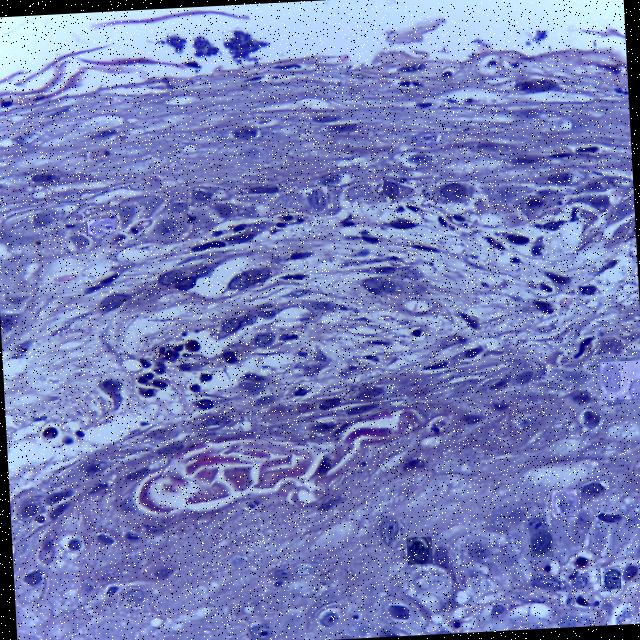Multiple Nucleol: (87, 217, 115, 234), (310, 187, 327, 212)
Nuclear Hyperchromatism: (599, 361, 640, 398), (376, 515, 399, 545), (551, 489, 575, 516), (529, 528, 551, 557), (406, 537, 430, 563), (437, 181, 468, 199), (412, 128, 442, 146), (602, 566, 619, 590), (381, 179, 399, 200)
